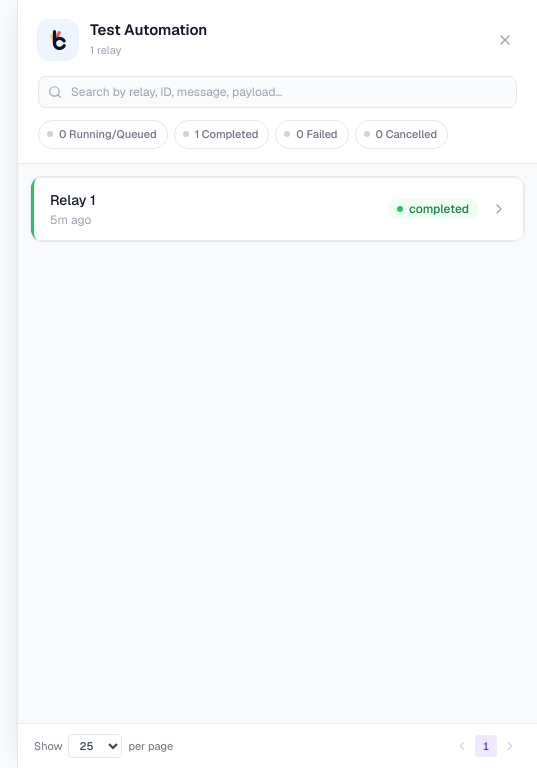
Test: ActionLogsSidebar — Workflow Builder Instance ID copy button › no copy button for Workflow Builder Instance ID when null
What coordinates should you click on to do the following:
click the text "Relay 1"
I would click on:
 (73, 200)
Its box is [50,190,96,208].
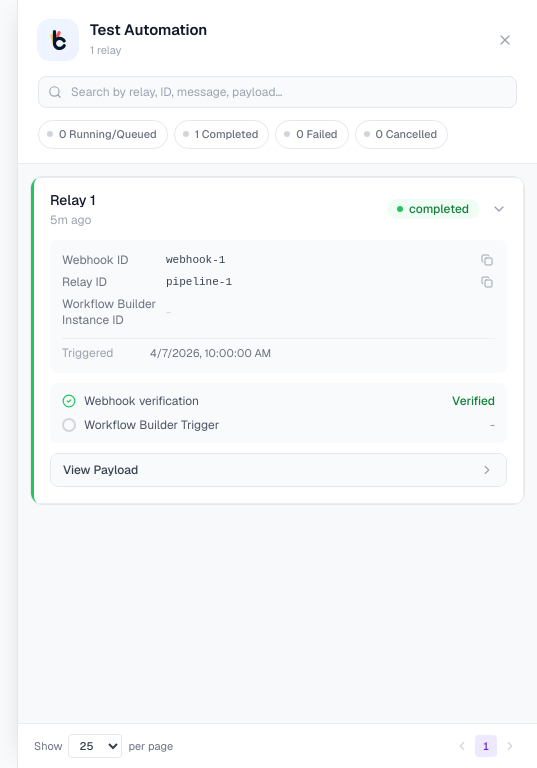
Result: the text "Workflow Builder Instance ID" is shown at [62,296,158,328]
